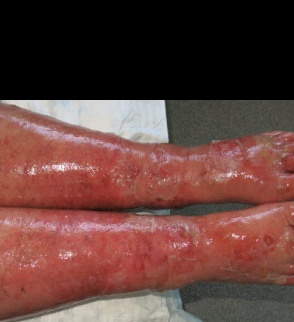SJS-TEN: (0, 100, 294, 322)
